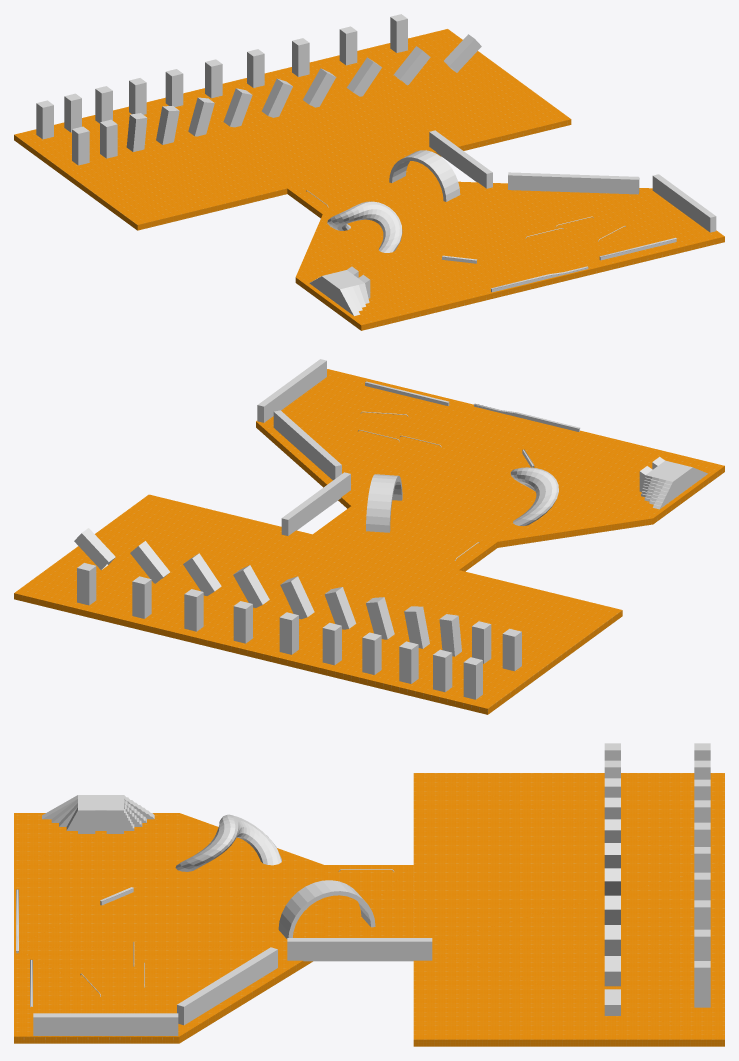
The model's file is playground.glb.
3 views of the same model, one above another, from view 1: azimuth 30°, elevation 25°; view 2: azimuth 150°, elevation 25°; view 3: azimuth 270°, elevation 25° (orthographic). The views are drawn at different scales.
Visible parts, largest first — view 1: BézierCurve.006; view 2: BézierCurve.006; view 3: BézierCurve.006.
Part boxes in pixels (bbox=[...]): BézierCurve.006: bbox=[14, 14, 724, 330]; BézierCurve.006: bbox=[14, 359, 724, 714]; BézierCurve.006: bbox=[14, 743, 724, 1046].
Size of the model in its own units: 148 by 14.26 by 167.
2 materials, 1 textured.
